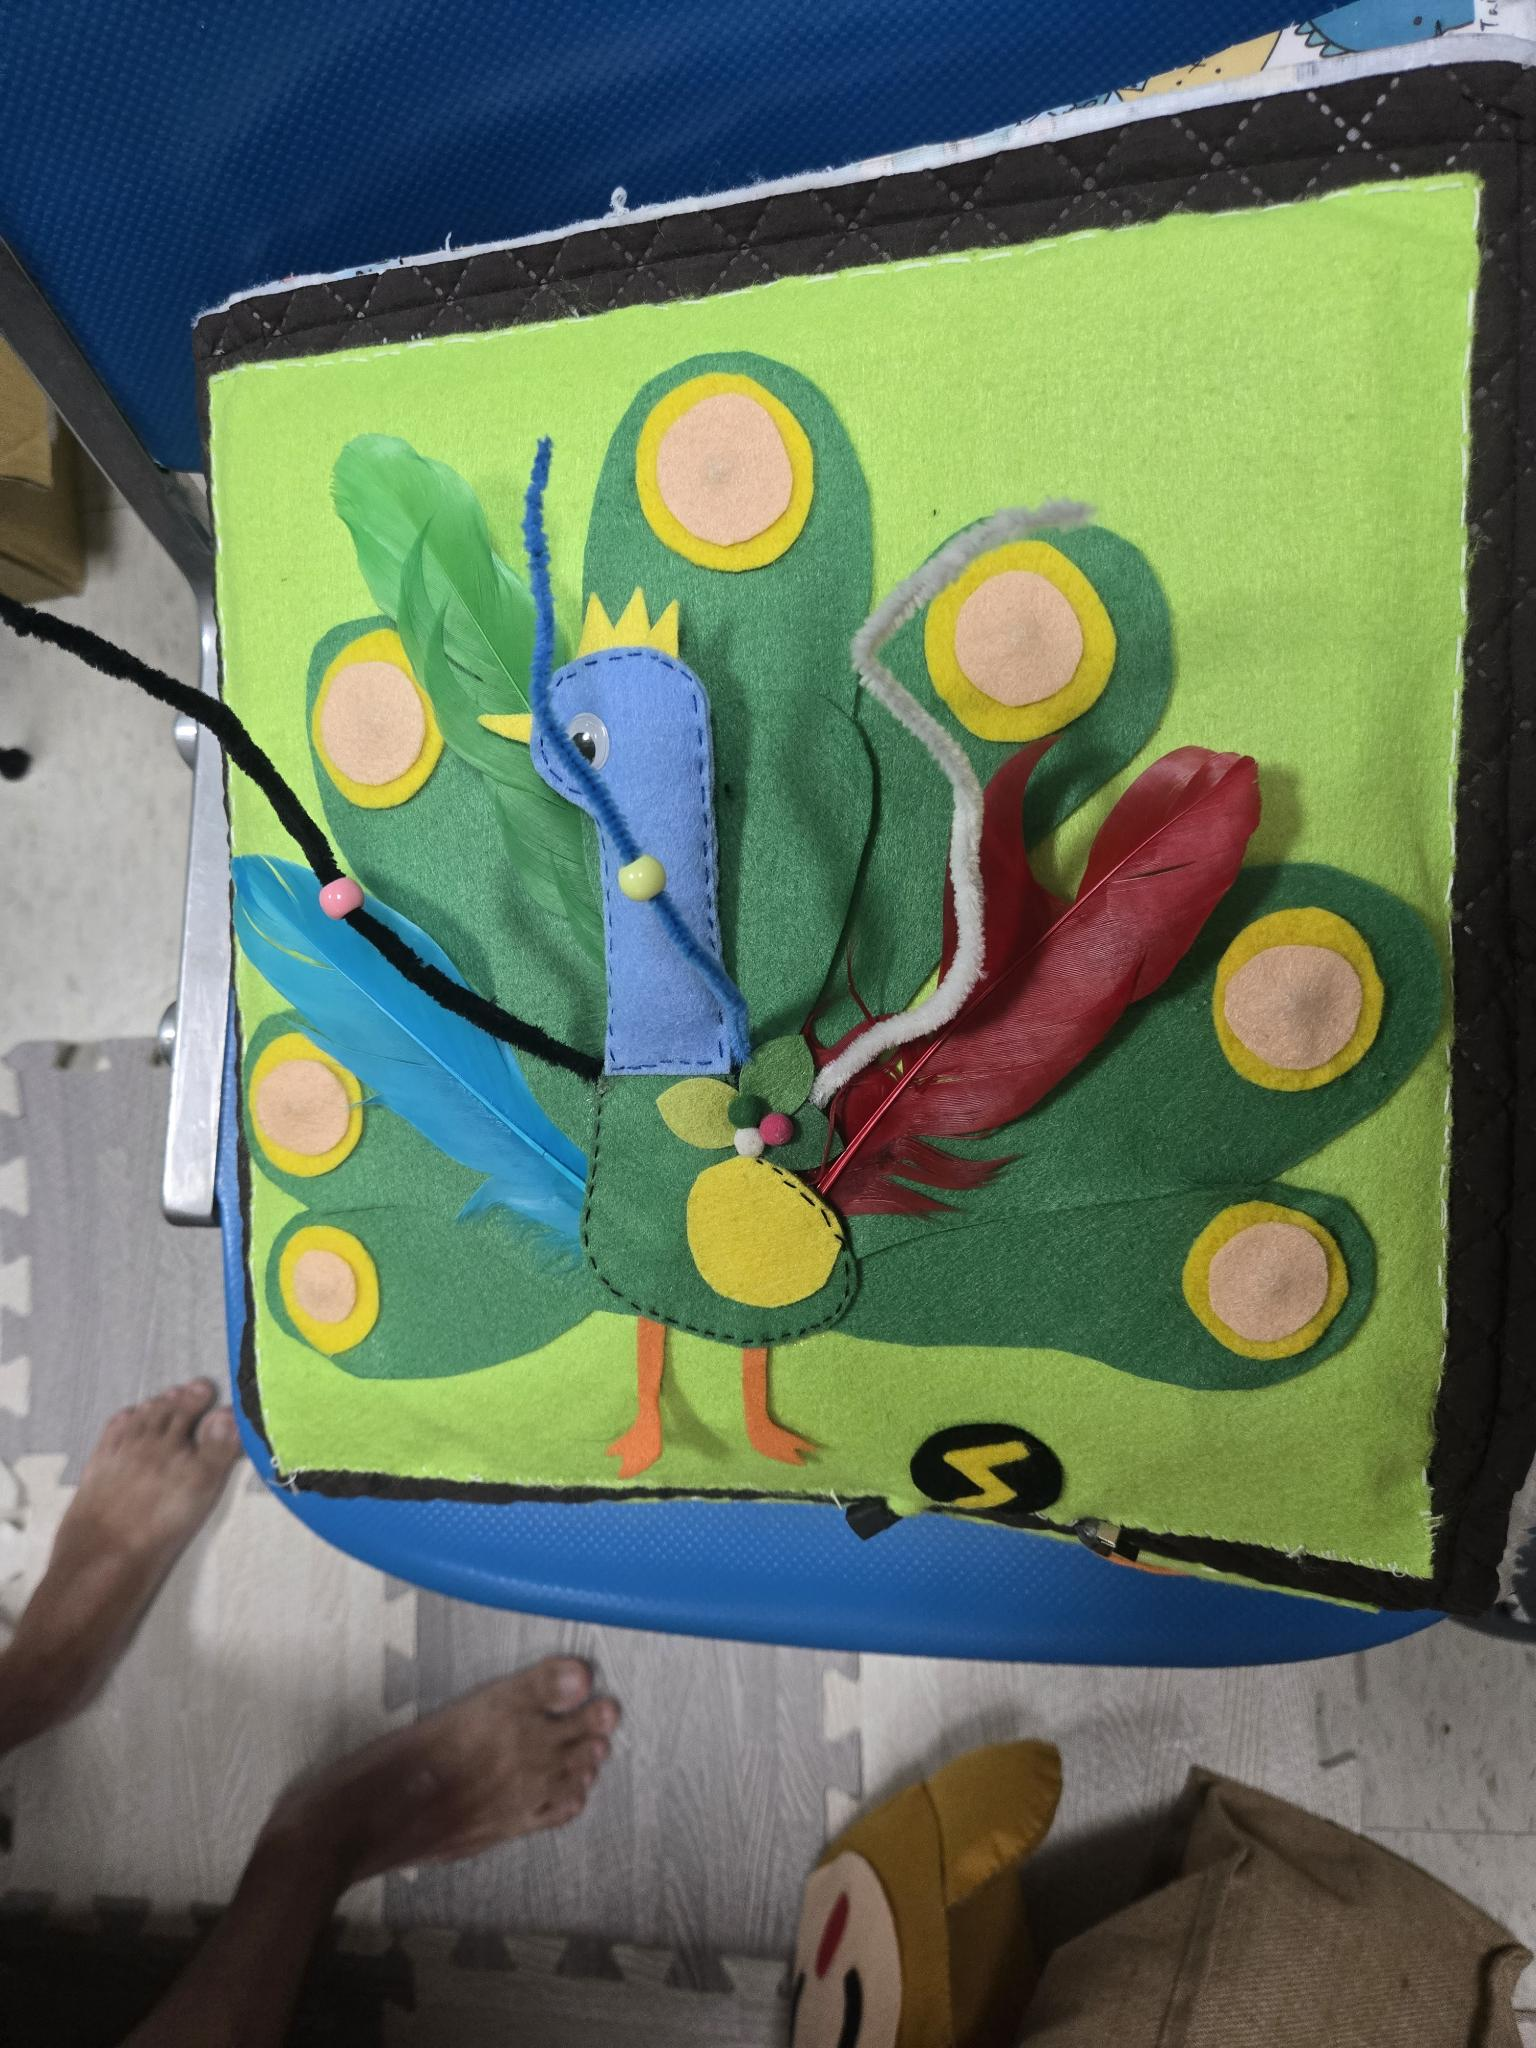bead: (599, 830, 678, 916), (297, 851, 379, 930)
